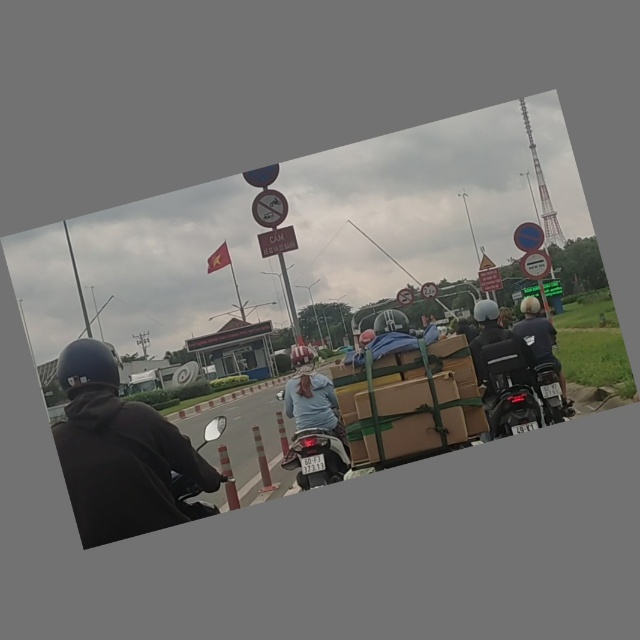P.107: (396, 287, 416, 309)
P.111: (248, 187, 292, 232)
P.117*: (419, 281, 440, 303)
P.129: (519, 247, 555, 284)
P.131a: (511, 220, 546, 254)
W.221b: (476, 253, 498, 273)
